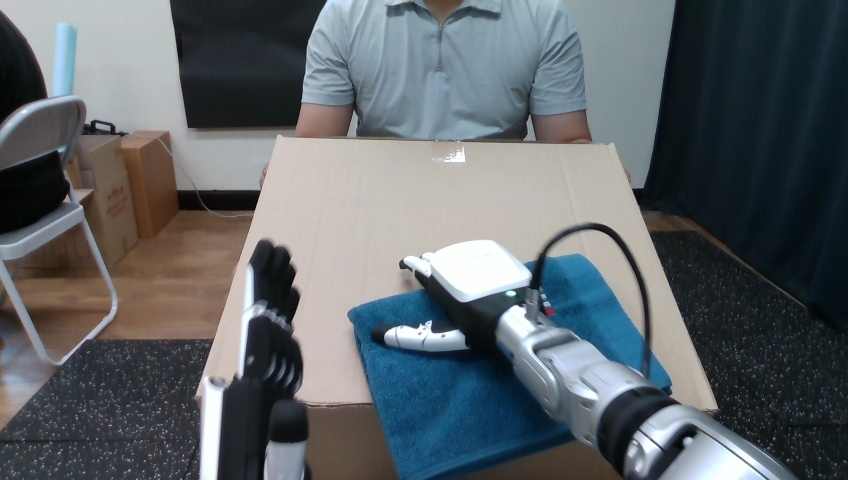left robot hand: (371, 241, 674, 477), (200, 239, 302, 479)
